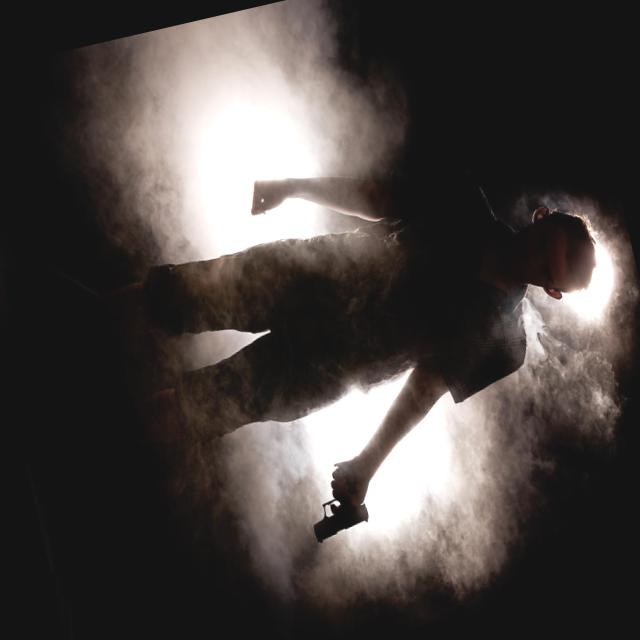handgun: (294, 449, 378, 551)
